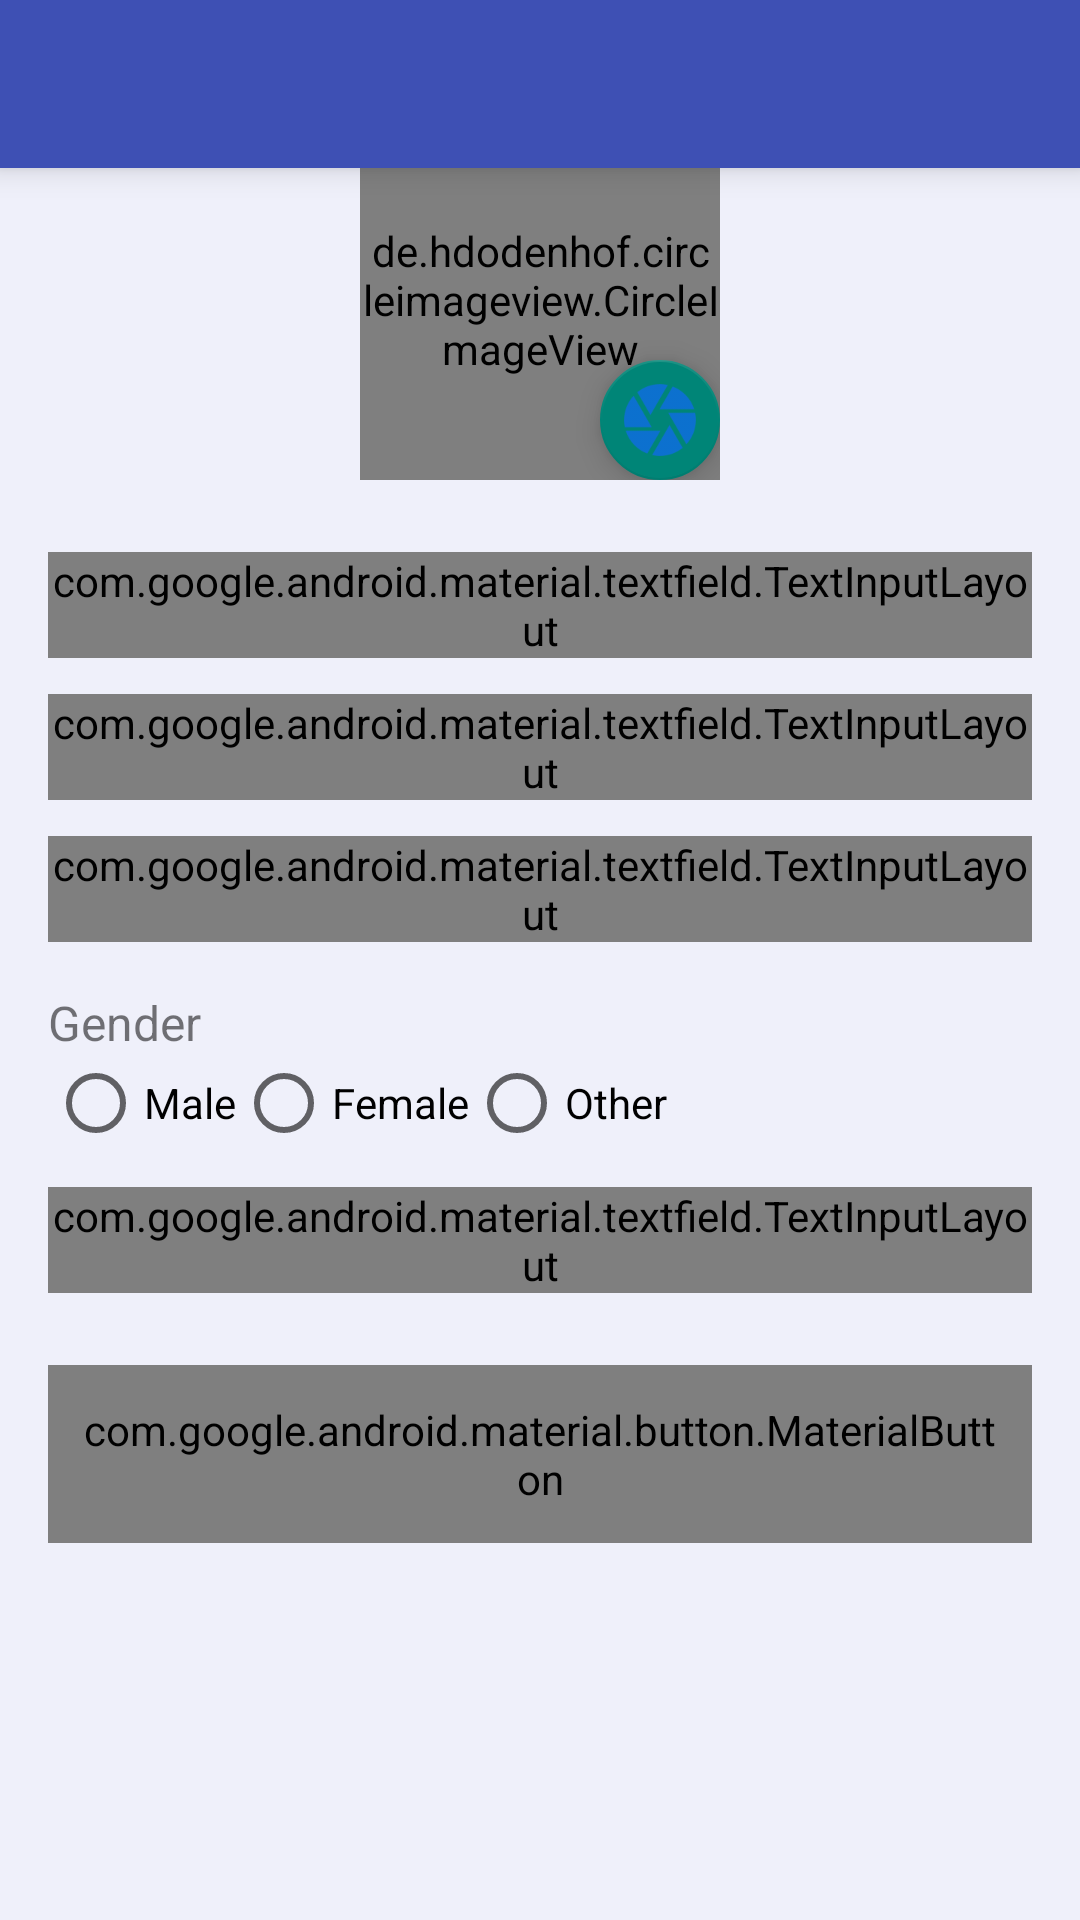

Named icons in this screenshot (1080 × 1920) and their centers, [x,y]:
camera: [660,420]
